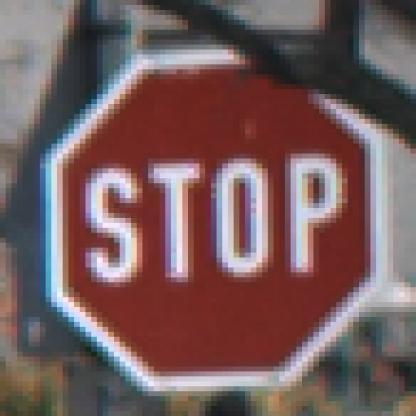Stop: (48, 57, 376, 379)
